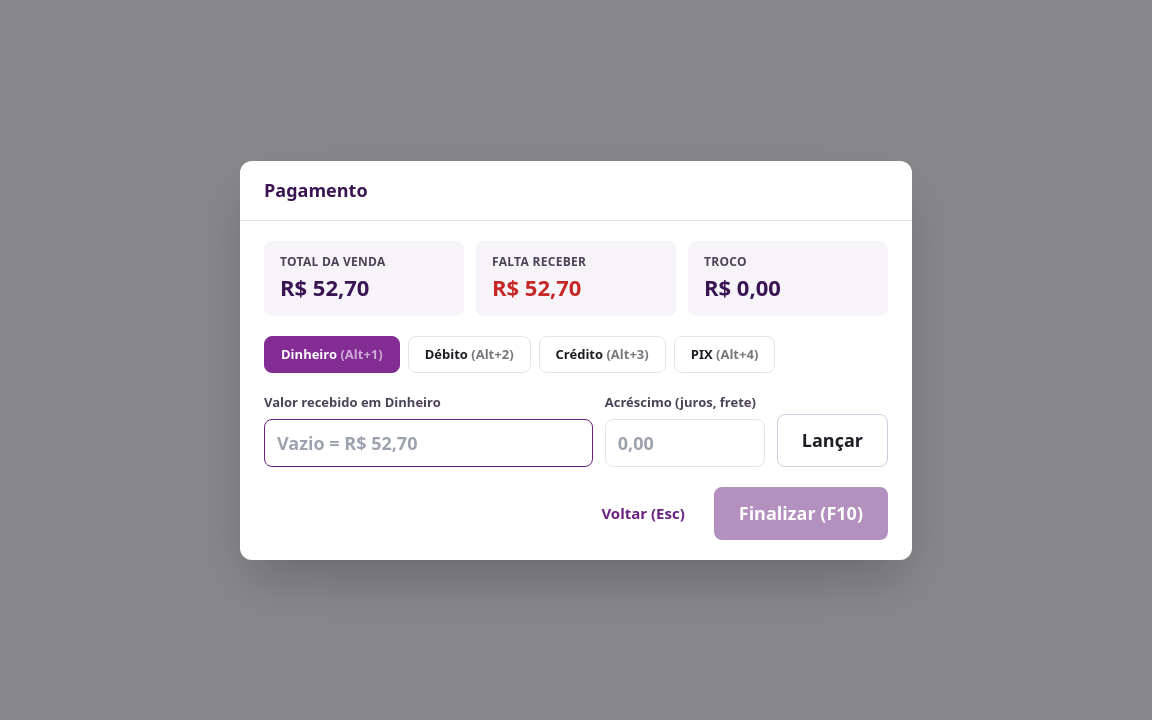
F10 no diálogo recém-aberto › em débito com maquininha: não cobra sozinho — avisa o que falta
The width and height of the screenshot is (1152, 720).
Click the button "Débito (Alt+2)": (469,354) [408, 336, 531, 373]
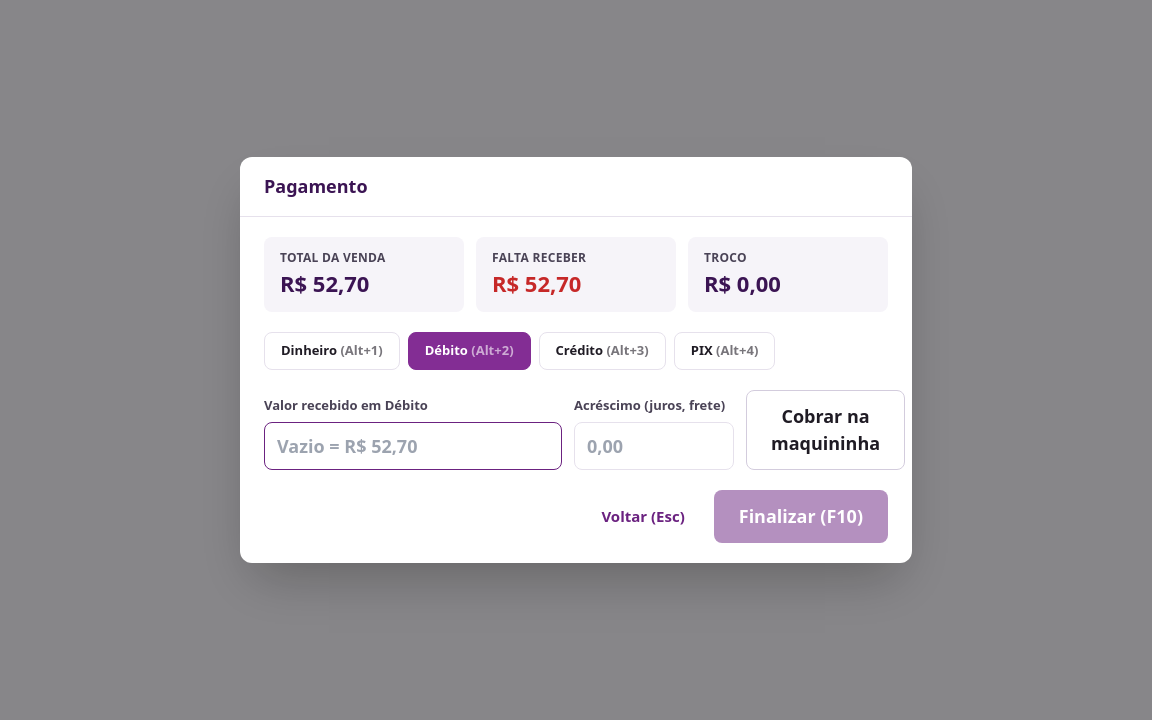
Now the button "Cobrar na maquininha" is shown, box [746, 390, 905, 470]
Press F10 in the field labelled "Valor recebido em Débito", box [264, 422, 562, 470]
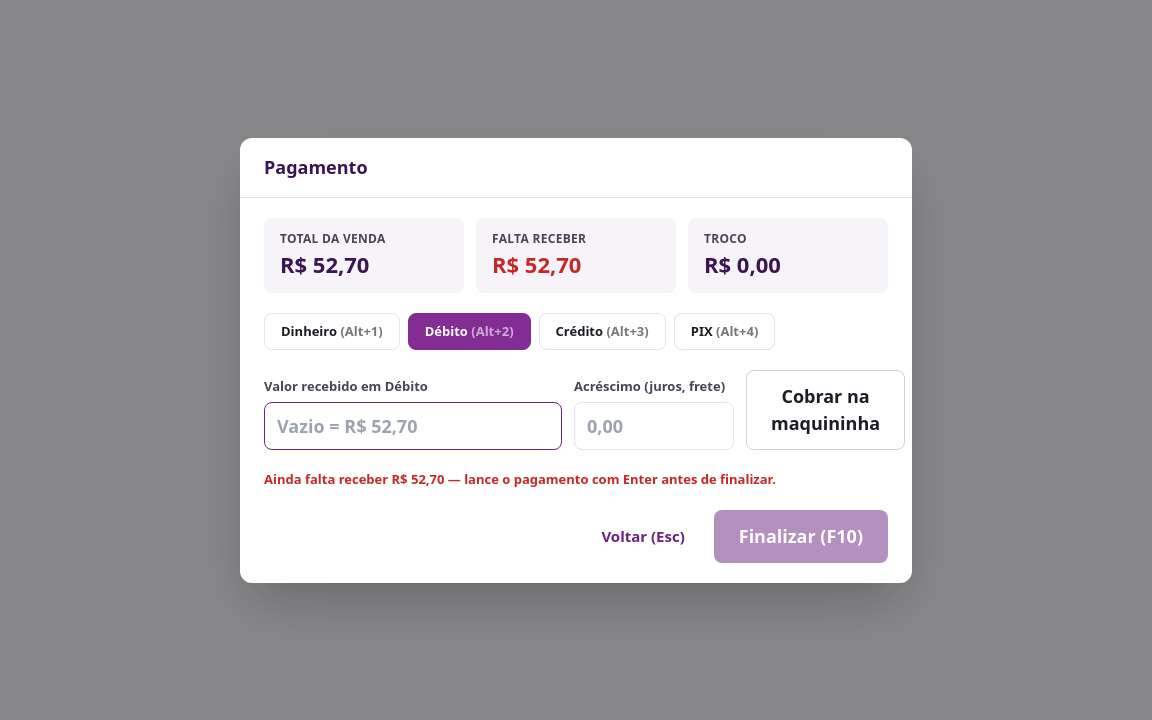
Now the message with test id "pagamento-aviso" shows "Ainda falta receber", box [264, 470, 776, 488]
